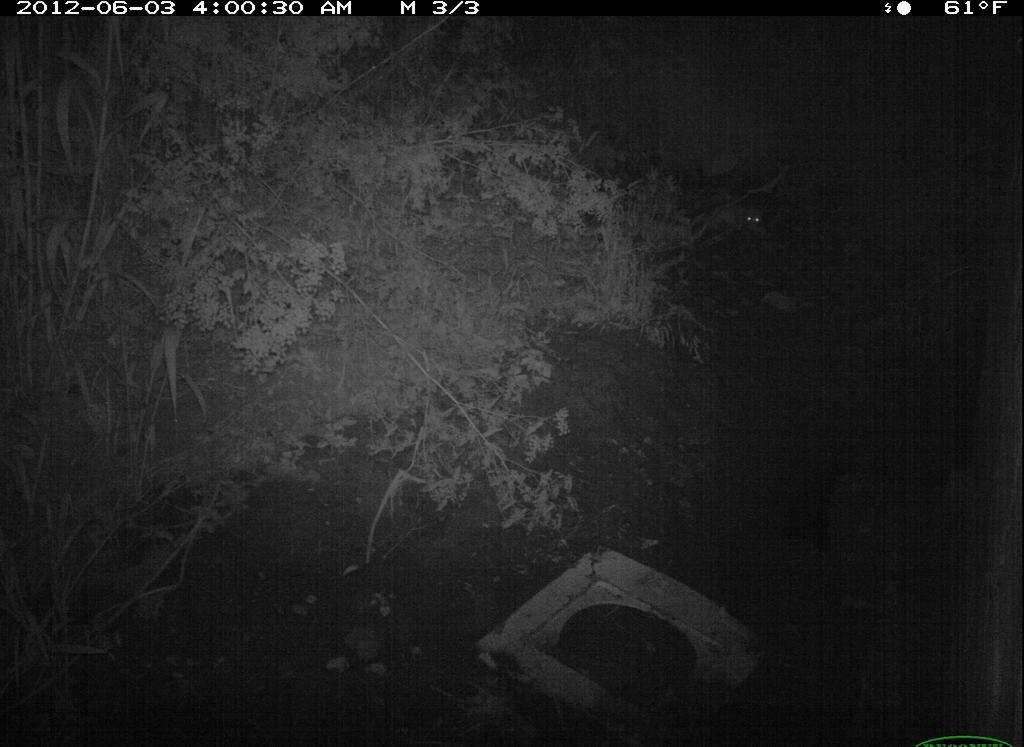opossum: (690, 187, 782, 244)
